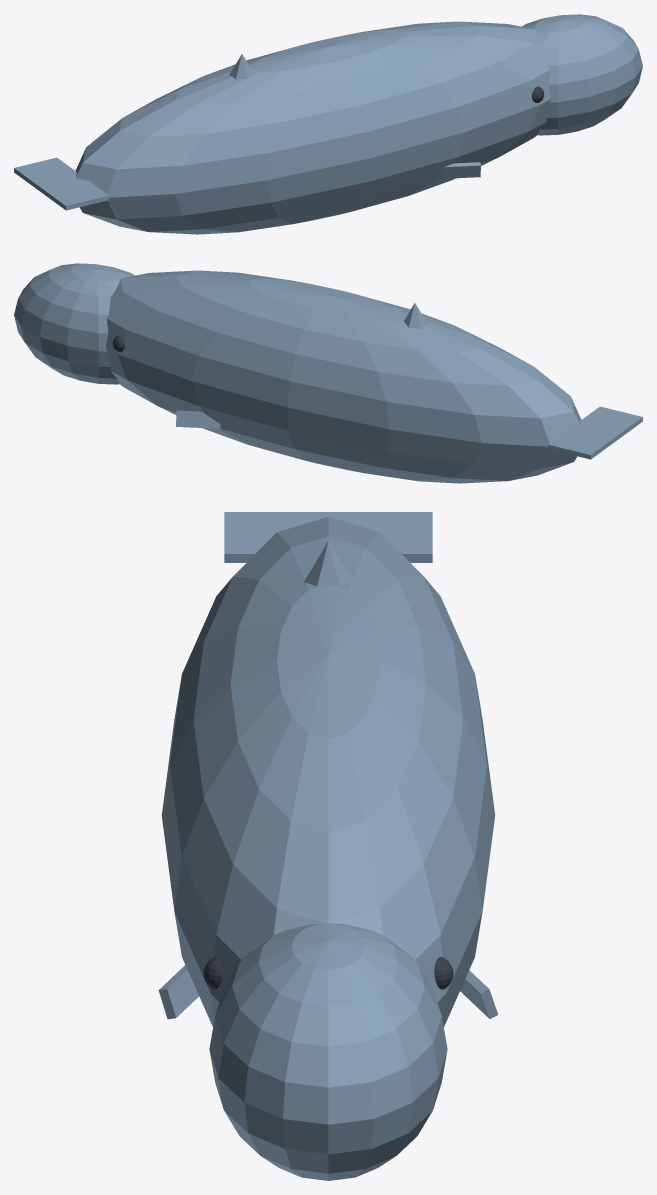
The model's file is whale.glb.
3 renders of one model, top to bottom at view 1: azimuth 30°, elevation 25°; view 2: azimuth 150°, elevation 25°; view 3: azimuth 270°, elevation 25°, orthographic. The views are drawn at different scales.
Parts seen in each view (by area): view 1: Body, Snout, Fluke, FinR, Dorsal; view 2: Body, Snout, Fluke, FinL, Dorsal; view 3: Body, Snout, Fluke, FinR, Dorsal.
Boxes of the visible parts, x1,y1,x2,y2 form: Body: [75, 21, 551, 234]; Snout: [522, 14, 642, 135]; Fluke: [14, 157, 108, 210]; FinR: [437, 162, 480, 178]; Dorsal: [229, 54, 252, 79]; Body: [105, 270, 581, 483]; Snout: [14, 263, 134, 384]; Fluke: [548, 406, 642, 459]; FinL: [176, 410, 220, 428]; Dorsal: [404, 303, 427, 328]; Body: [161, 517, 495, 1027]; Snout: [209, 923, 447, 1180]; Fluke: [224, 512, 432, 562]; FinR: [158, 965, 198, 1019]; Dorsal: [303, 541, 353, 586].
Bounding box in the file's own units: 3.47 × 0.98 × 0.8558.
